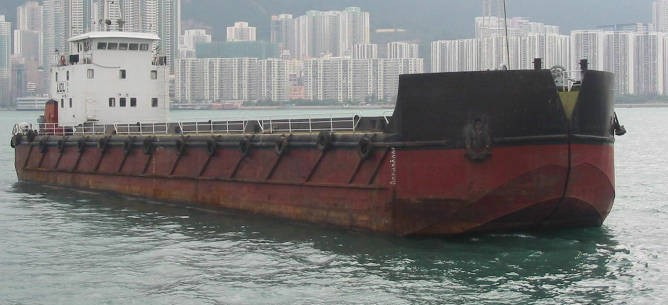Cargoship: (11, 15, 626, 251)
